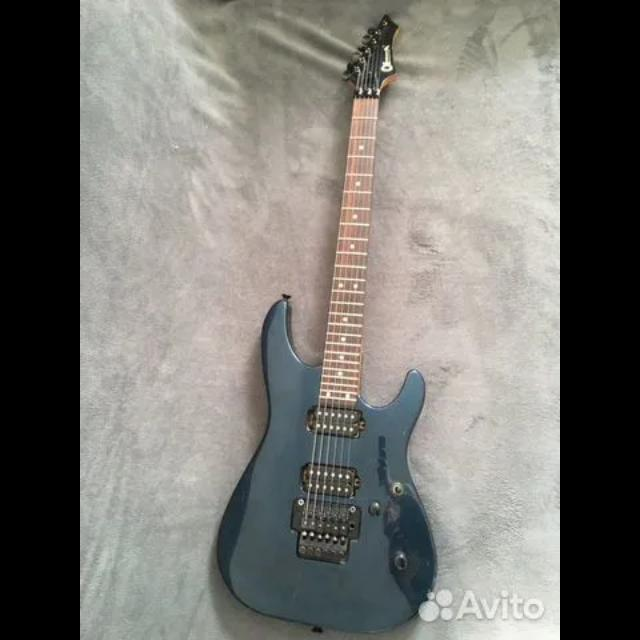Electric-Guitar: (215, 13, 438, 631)
